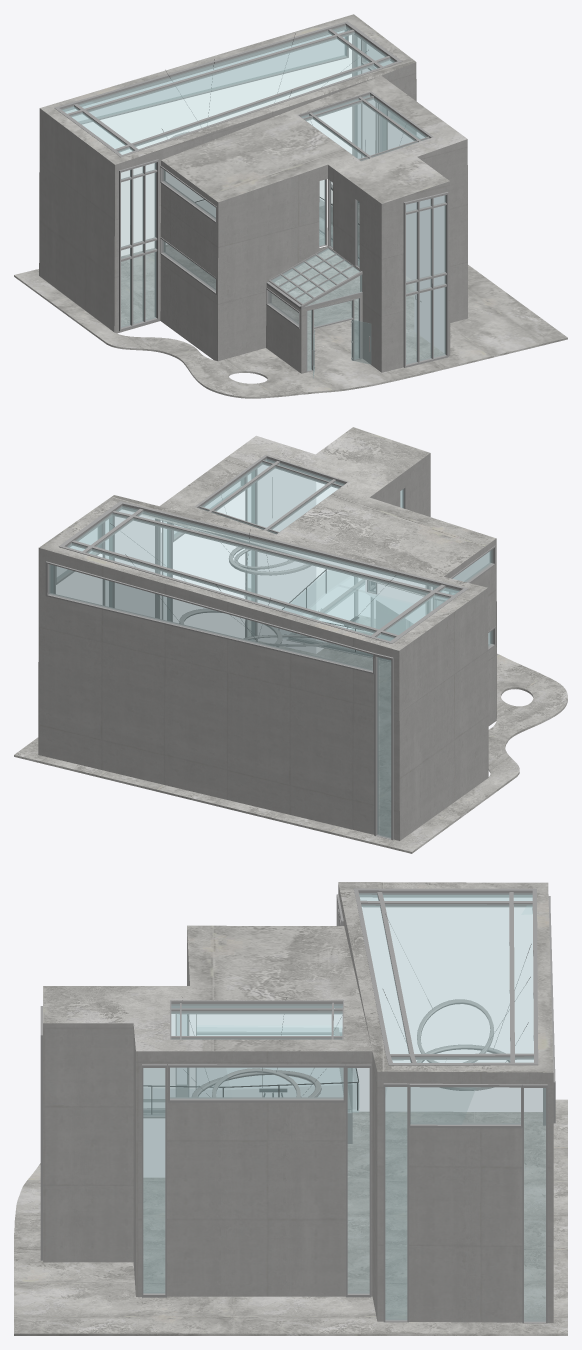
Rendered from art_gallery.glb.
The picture shows the model from 3 angles, top to bottom: view 1: azimuth 30°, elevation 25°; view 2: azimuth 150°, elevation 25°; view 3: azimuth 270°, elevation 25°; orthographic projection. The views are drawn at different scales.
Visible parts, largest first — view 1: Building, Floor, TragaluzGrande, Cube.005, Cube.006, TragaluzGrande.001, TragaluzEntrada, FrontDoor, Vent_1P_sinMarcos.006, Vent_1P_sinMarcos.014, Vent_1P_sinMarcos.013, Vent_1P_sinMarcos.002 (+2 smaller); view 2: Building, TragaluzGrande, Floor, Vent_1P_sinMarcos.013, TragaluzGrande.001, Vent_1P_sinMarcos.001, barandaVidrio, Lampara!, Seat.010, Vent_1P_sinMarcos.014, Lampara2, Vent_1P_sinMarcos.003 (+1 smaller); view 3: Building, Floor, TragaluzGrande, TragaluzGrande.001, Vent_1P_sinMarcos.009, Vent_1P_sinMarcos.002, Vent_1P_sinMarcos.005, Vent_1P_sinMarcos.003, Vent_1P_sinMarcos.008, Vent_1P_sinMarcos.004, Lampara2, barandaVidrio (+2 smaller).
Part boxes in pixels (bbox=[...]): Building: bbox=[39, 14, 467, 373]; Floor: bbox=[14, 203, 567, 398]; TragaluzGrande: bbox=[54, 23, 402, 156]; Cube.005: bbox=[404, 192, 448, 366]; Cube.006: bbox=[120, 162, 158, 328]; TragaluzGrande.001: bbox=[298, 91, 433, 161]; TragaluzEntrada: bbox=[269, 246, 360, 305]; FrontDoor: bbox=[306, 297, 370, 378]; Vent_1P_sinMarcos.006: bbox=[160, 237, 216, 294]; Vent_1P_sinMarcos.014: bbox=[160, 165, 216, 222]; Vent_1P_sinMarcos.013: bbox=[79, 30, 348, 124]; Vent_1P_sinMarcos.002: bbox=[352, 34, 362, 158]; Building: bbox=[38, 427, 496, 840]; TragaluzGrande: bbox=[64, 503, 468, 642]; Floor: bbox=[14, 588, 567, 853]; Vent_1P_sinMarcos.013: bbox=[45, 562, 374, 673]; TragaluzGrande.001: bbox=[194, 455, 347, 534]; Vent_1P_sinMarcos.001: bbox=[374, 653, 393, 840]; barandaVidrio: bbox=[283, 570, 371, 635]; Lampara!: bbox=[221, 477, 311, 575]; Seat.010: bbox=[157, 519, 431, 614]; Vent_1P_sinMarcos.014: bbox=[437, 546, 495, 606]; Lampara2: bbox=[110, 523, 395, 646]; Vent_1P_sinMarcos.003: bbox=[161, 521, 172, 621]; Building: bbox=[40, 882, 555, 1322]; Floor: bbox=[14, 1099, 567, 1335]; TragaluzGrande: bbox=[355, 888, 538, 1065]; TragaluzGrande.001: bbox=[170, 1000, 343, 1039]; Vent_1P_sinMarcos.009: bbox=[168, 1064, 345, 1102]; Vent_1P_sinMarcos.002: bbox=[522, 1084, 547, 1323]; Vent_1P_sinMarcos.005: bbox=[383, 1083, 408, 1322]; Vent_1P_sinMarcos.003: bbox=[346, 1064, 371, 1297]; Vent_1P_sinMarcos.008: bbox=[142, 1064, 166, 1297]; Vent_1P_sinMarcos.004: bbox=[409, 1084, 521, 1128]; Lampara2: bbox=[383, 914, 531, 1090]; barandaVidrio: bbox=[231, 1068, 358, 1109].
Size of what is drawn, in the model's own units: 32 by 16.55 by 32.
Materials: 10 (2 with a texture image).
